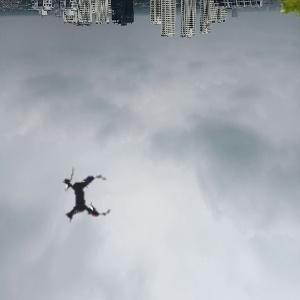drone: (30, 143, 136, 249)
